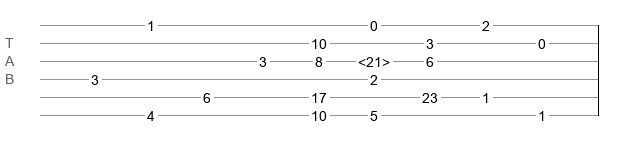0: (370, 18, 378, 28), (538, 36, 546, 46)
1: (147, 18, 155, 28), (482, 90, 490, 100), (538, 108, 546, 118)
10: (311, 36, 327, 46), (311, 108, 327, 118)
17: (311, 90, 327, 100)
2: (370, 72, 378, 82), (482, 18, 490, 28)
23: (422, 90, 438, 100)
3: (91, 72, 99, 82), (259, 54, 267, 64), (426, 36, 434, 46)
4: (147, 108, 155, 118)
5: (370, 108, 378, 118)
6: (203, 90, 211, 100), (426, 54, 434, 64)
8: (315, 54, 323, 64)
harmonic: (358, 54, 390, 64)
